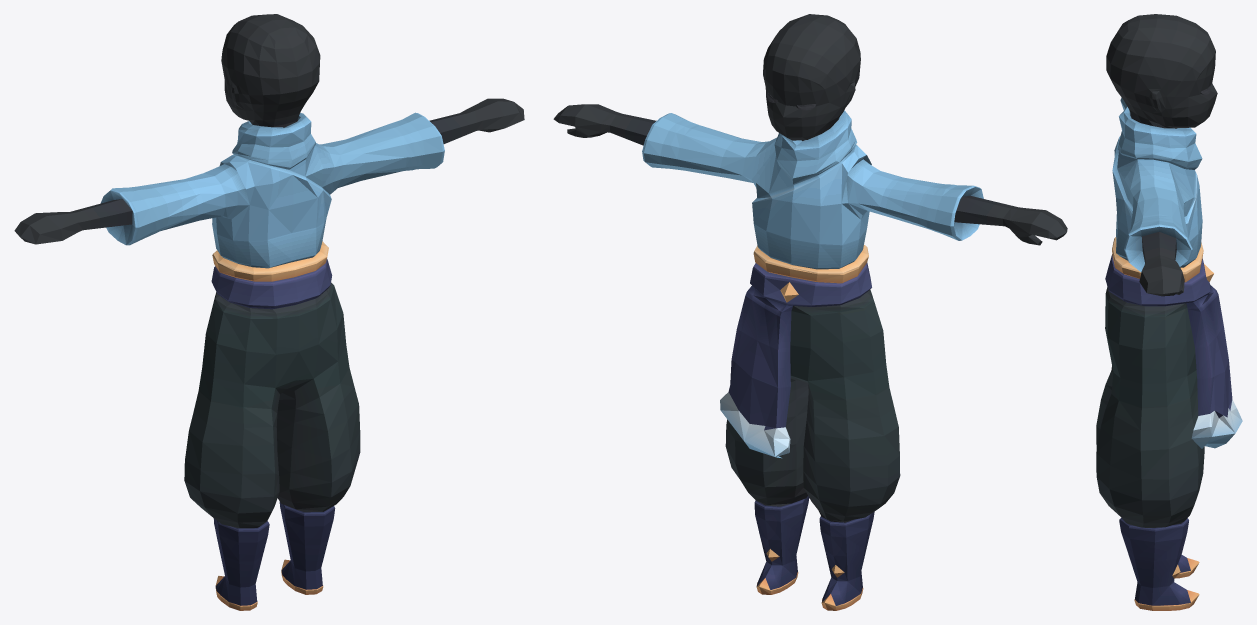
Rendered from CharSkyKid_Body_AP05JugglerPants_01.glb.
3 views of the same model, side by side, from view 1: azimuth 30°, elevation 25°; view 2: azimuth 150°, elevation 25°; view 3: azimuth 270°, elevation 25° (orthographic).
Parts seen in each view (by area): view 1: CharSkyKid_Body_AP05JugglerPants_01; view 2: CharSkyKid_Body_AP05JugglerPants_01; view 3: CharSkyKid_Body_AP05JugglerPants_01.
Boxes of the visible parts, x1=… form: CharSkyKid_Body_AP05JugglerPants_01: x1=14, y1=14, x2=524, y2=610; CharSkyKid_Body_AP05JugglerPants_01: x1=553, y1=14, x2=1067, y2=610; CharSkyKid_Body_AP05JugglerPants_01: x1=1096, y1=14, x2=1242, y2=610.
Bounding box in the file's own units: 13.83 × 14.93 × 3.47.
1 material, 1 textured.
